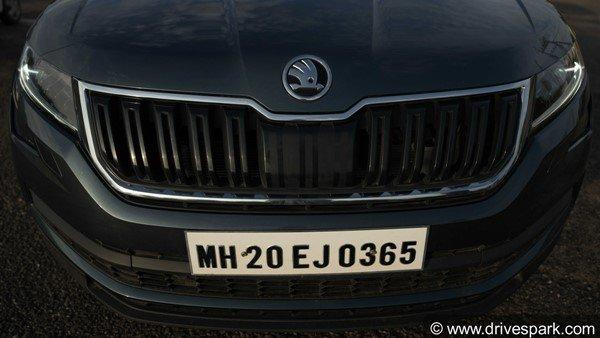Liscence Plate: (182, 231, 423, 276)
